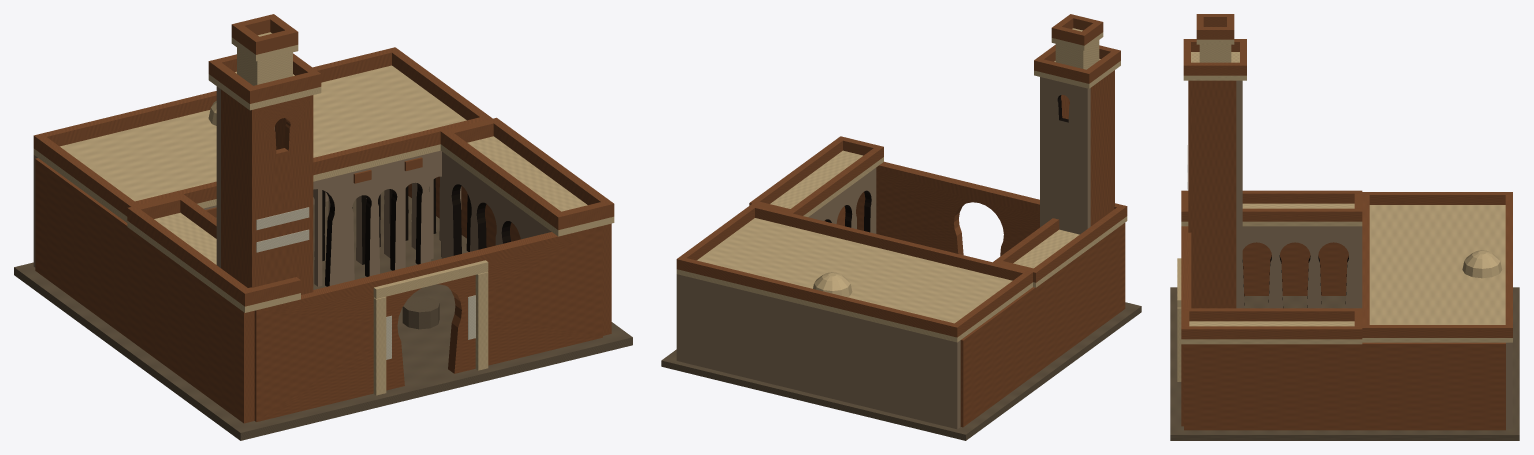
The model's file is Berber_Tlemcen_Age3.fbx.
3 renders of one model, left to right at view 1: azimuth 30°, elevation 25°; view 2: azimuth 150°, elevation 25°; view 3: azimuth 270°, elevation 25°, orthographic. The views are drawn at different scales.
Visible parts, largest first — view 1: entry_enclosure, outer_side_wall_-3.5, prayer_hall_flat_roof, foundation, minaret_shell_south, prayer_hall_courtyard_arcade, courtyard_gallery_2.65, minaret_shell_west, prayer_hall_flat_roof_parapet.003, gallery_roof_2.65, prayer_hall_flat_roof_parapet.002, gallery_roof_2.65_parapet (+27 smaller); view 2: qibla_wall, prayer_hall_flat_roof, outer_side_wall_-3.5, entry_enclosure, minaret_shell_north, foundation, prayer_hall_flat_roof_parapet.003, prayer_hall_flat_roof_parapet.002, minaret_shell_west, courtyard_gallery_2.65, gallery_roof_2.65, gallery_roof_-2.65_parapet (+12 smaller); view 3: outer_side_wall_3.5, prayer_hall_flat_roof, minaret_shell_east, foundation, courtyard_gallery_-2.65, outer_side_wall_-3.5, gallery_roof_2.65_parapet.001, gallery_roof_2.65_parapet, gallery_roof_2.65, prayer_hall_flat_roof_parapet.001, prayer_hall_flat_roof_parapet, gallery_roof_-2.65_parapet.001 (+15 smaller).
Part boxes in pixels (x1=…): entry_enclosure: x1=254, y1=226, x2=602, y2=421; outer_side_wall_-3.5: x1=35, y1=158, x2=254, y2=423; prayer_hall_flat_roof: x1=33, y1=65, x2=466, y2=222; foundation: x1=14, y1=191, x2=632, y2=440; minaret_shell_south: x1=248, y1=95, x2=313, y2=294; prayer_hall_courtyard_arcade: x1=203, y1=150, x2=471, y2=286; courtyard_gallery_2.65: x1=441, y1=152, x2=551, y2=258; minaret_shell_west: x1=221, y1=89, x2=247, y2=287; prayer_hall_flat_roof_parapet.003: x1=42, y1=49, x2=391, y2=146; gallery_roof_2.65: x1=440, y1=136, x2=614, y2=236; prayer_hall_flat_roof_parapet.002: x1=135, y1=117, x2=484, y2=204; gallery_roof_2.65_parapet: x1=440, y1=129, x2=566, y2=229; qibla_wall: x1=676, y1=274, x2=960, y2=429; prayer_hall_flat_roof: x1=676, y1=218, x2=1032, y2=342; outer_side_wall_-3.5: x1=960, y1=223, x2=1125, y2=427; entry_enclosure: x1=845, y1=161, x2=1039, y2=256; minaret_shell_north: x1=1040, y1=77, x2=1090, y2=234; foundation: x1=661, y1=302, x2=1141, y2=440; prayer_hall_flat_roof_parapet.003: x1=683, y1=258, x2=954, y2=335; prayer_hall_flat_roof_parapet.002: x1=755, y1=205, x2=1026, y2=280; minaret_shell_west: x1=1090, y1=72, x2=1111, y2=226; courtyard_gallery_2.65: x1=808, y1=168, x2=876, y2=233; gallery_roof_2.65: x1=770, y1=150, x2=883, y2=216; gallery_roof_-2.65_parapet: x1=1030, y1=204, x2=1127, y2=282; outer_side_wall_3.5: x1=1184, y1=342, x2=1505, y2=430; prayer_hall_flat_roof: x1=1362, y1=205, x2=1512, y2=342; minaret_shell_east: x1=1194, y1=80, x2=1236, y2=308; foundation: x1=1170, y1=287, x2=1519, y2=440; courtyard_gallery_-2.65: x1=1242, y1=226, x2=1362, y2=308; outer_side_wall_-3.5: x1=1242, y1=242, x2=1348, y2=295; gallery_roof_2.65_parapet.001: x1=1181, y1=326, x2=1362, y2=339; gallery_roof_2.65_parapet: x1=1181, y1=308, x2=1362, y2=321; gallery_roof_2.65: x1=1181, y1=321, x2=1362, y2=344; prayer_hall_flat_roof_parapet.001: x1=1362, y1=325, x2=1512, y2=337; prayer_hall_flat_roof_parapet: x1=1362, y1=192, x2=1512, y2=204; gallery_roof_-2.65_parapet.001: x1=1181, y1=208, x2=1362, y2=221.
Bounding box in the file's own units: 770 × 710 × 770.
Materials: 5 (5 with a texture image).
